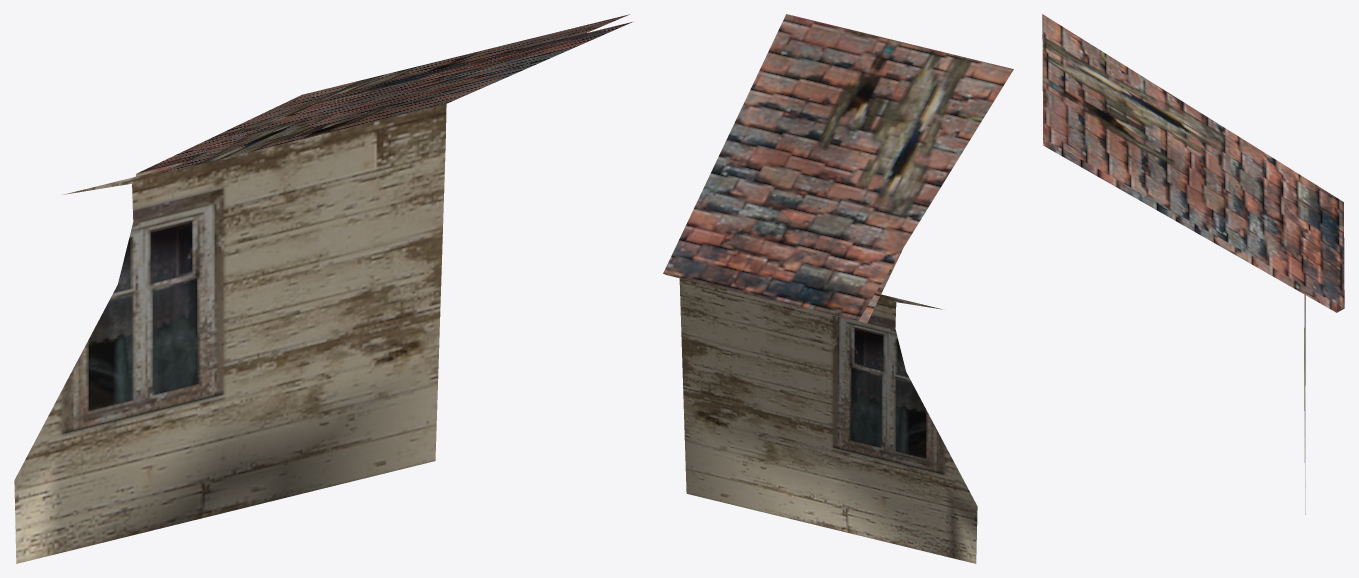
Rendered from House_01_04.fbx.
3 renders of one model, left to right at view 1: azimuth 30°, elevation 25°; view 2: azimuth 150°, elevation 25°; view 3: azimuth 270°, elevation 25°, orthographic. The views are drawn at different scales.
Parts seen in each view (by area): view 1: Cube.006; view 2: Cube.006; view 3: Cube.006.
Part boxes in pixels (<box>): Cube.006: <box>14,14,632,563</box>; Cube.006: <box>663,14,1013,563</box>; Cube.006: <box>1042,14,1344,514</box>.
Size of the model in its own units: 11.58 by 13.89 by 8.73.
